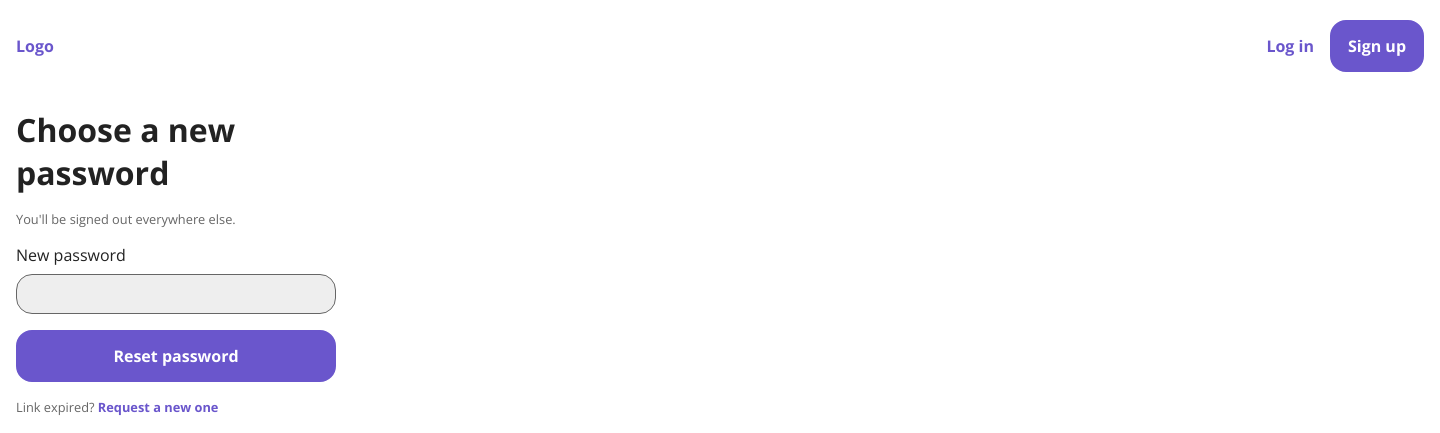
Test: Password reset › explains a rejected link and offers a new one
Type "new-password-456" into the password field labelled "New password".
click(176, 294); type("new-password-456")  # box 16,274 -> 336,314
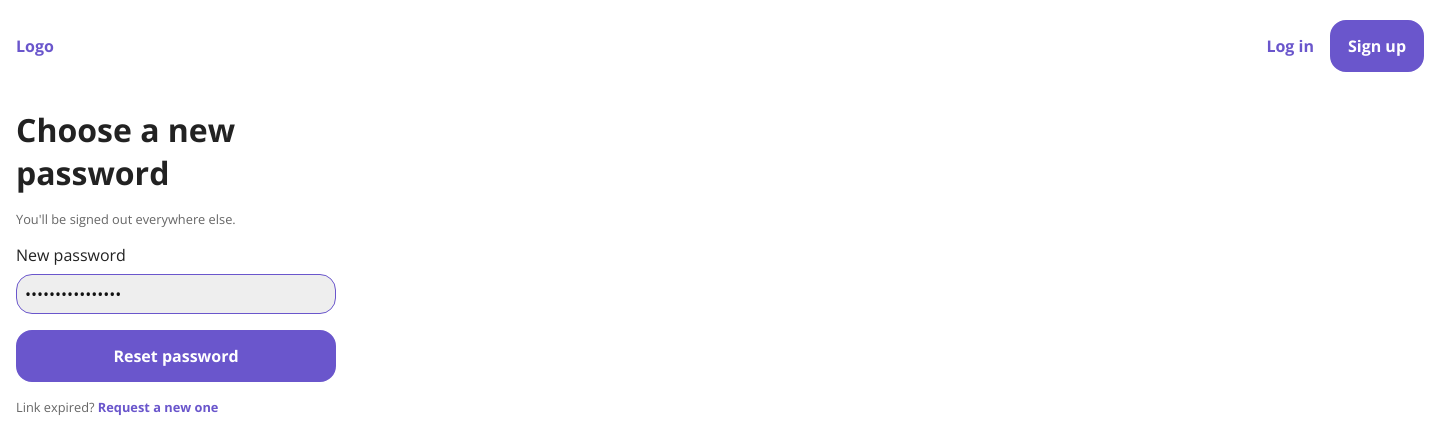
Click the button "Reset password".
click(176, 356)  # box 16,330 -> 336,382
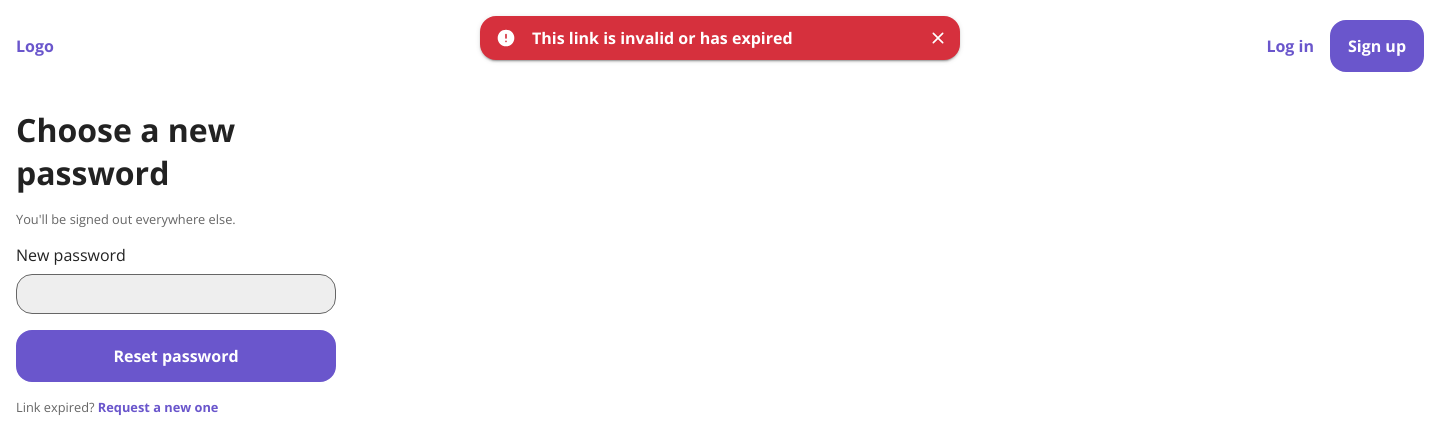
Check: the message reads "This link is invalid or has expired", box 532,27 -> 792,49
